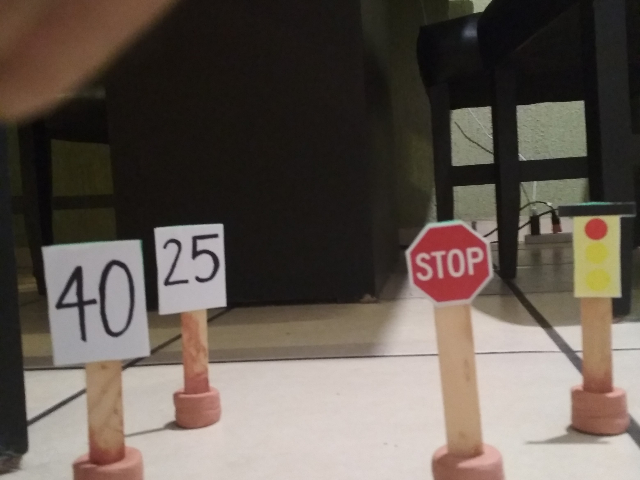Limit 25: (152, 223, 230, 317)
Limit 40: (40, 237, 150, 365)
Red: (557, 198, 637, 300)
Stop: (407, 219, 494, 308)
